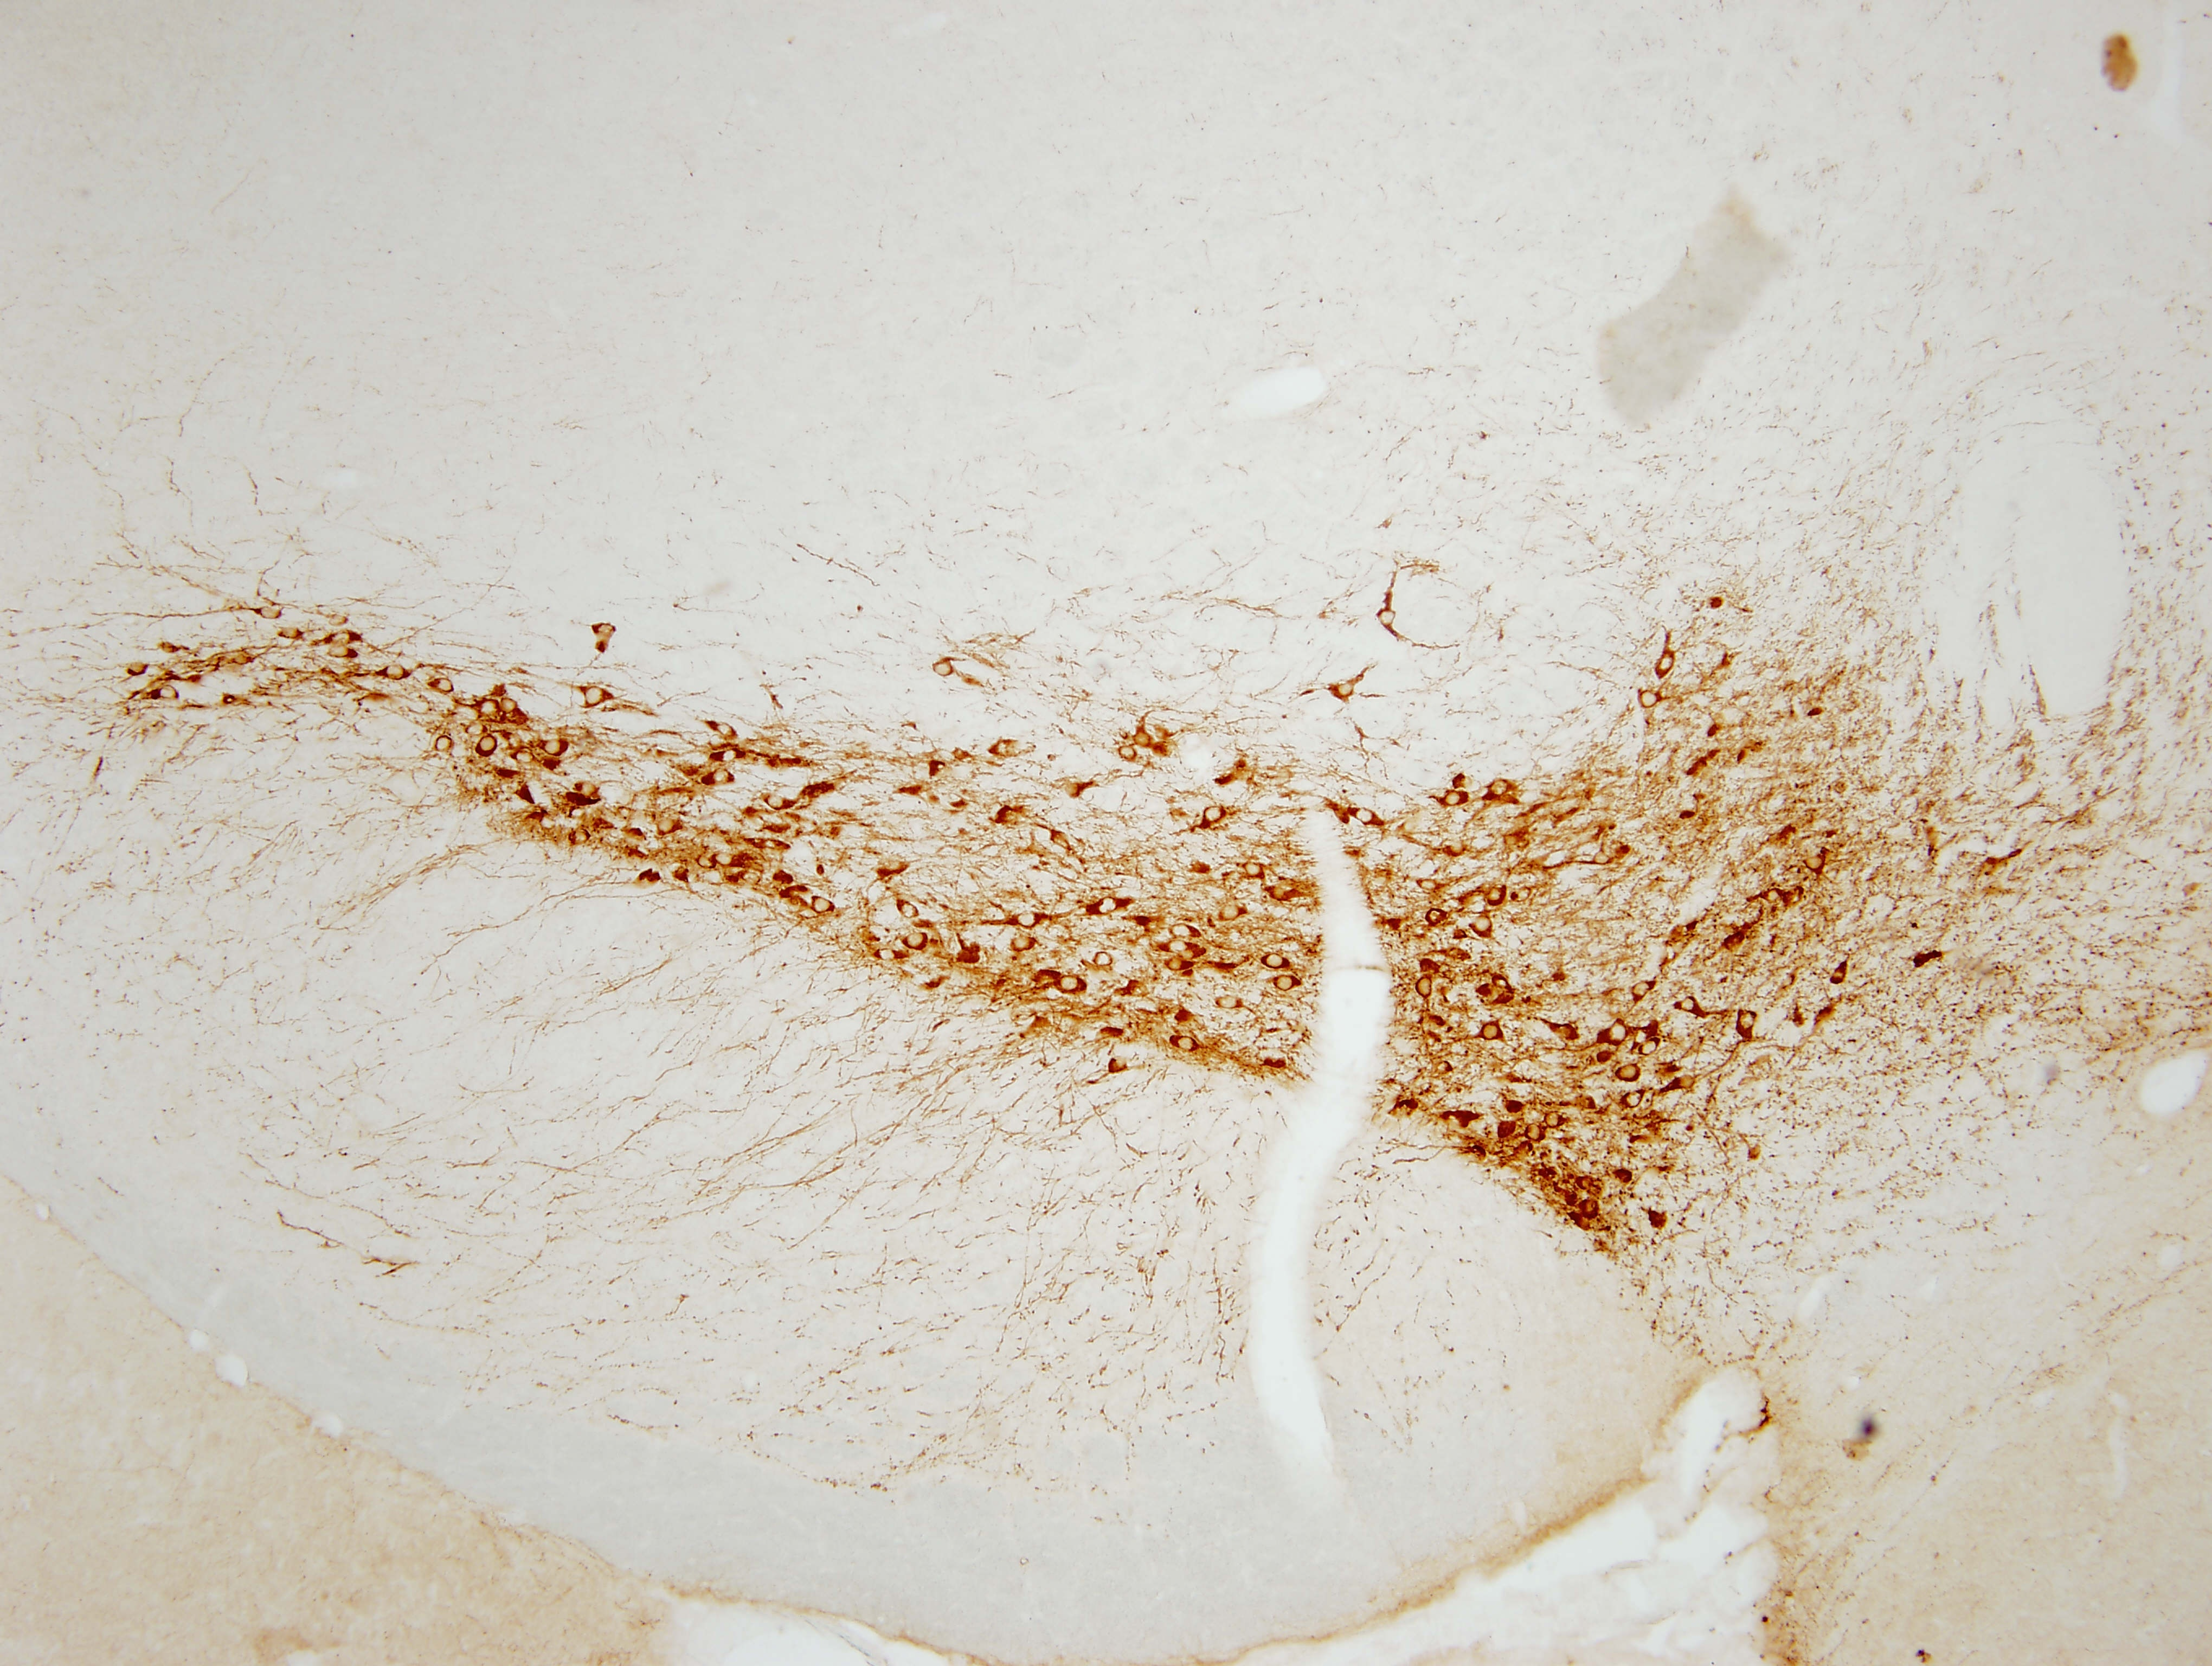neuron: (568, 824, 595, 851), (575, 777, 602, 803), (657, 814, 684, 840), (710, 765, 736, 791), (713, 847, 740, 873), (764, 789, 790, 816), (811, 894, 838, 921), (904, 929, 930, 956), (932, 658, 958, 684), (993, 738, 1019, 765), (1011, 929, 1037, 956), (1016, 908, 1042, 935), (1060, 970, 1086, 996), (1096, 893, 1123, 919), (1172, 919, 1198, 945), (1173, 1032, 1200, 1059), (1203, 803, 1229, 830), (1219, 992, 1245, 1019), (1219, 901, 1245, 928), (126, 656, 152, 683), (1263, 949, 1289, 975), (1273, 970, 1299, 996), (1425, 905, 1451, 931), (1441, 788, 1467, 814), (1469, 914, 1495, 940), (1481, 1020, 1507, 1046), (1488, 775, 1514, 801), (1521, 1122, 1548, 1148), (1541, 1108, 1567, 1134), (156, 681, 182, 707), (1591, 845, 1617, 871), (1609, 1020, 1635, 1046), (1616, 1061, 1642, 1087), (1623, 1087, 1649, 1113), (1630, 978, 1656, 1005), (1638, 1034, 1665, 1061), (1735, 1008, 1761, 1034), (1761, 886, 1787, 912), (1785, 886, 1812, 912), (280, 623, 306, 649), (330, 641, 357, 667), (332, 623, 358, 649), (385, 661, 411, 688), (476, 698, 502, 725), (498, 695, 525, 721), (544, 737, 570, 761), (584, 684, 609, 711), (719, 744, 743, 770), (876, 943, 902, 968), (1242, 859, 1268, 884), (1413, 975, 1439, 999), (1485, 884, 1509, 910), (1511, 882, 1537, 906), (1556, 1020, 1581, 1046), (1638, 690, 1665, 714), (1805, 851, 1831, 875), (259, 598, 283, 625), (477, 733, 502, 760), (1656, 651, 1680, 676), (696, 852, 717, 871), (717, 721, 736, 742), (1135, 730, 1154, 751), (1180, 945, 1200, 966), (1420, 875, 1439, 896), (437, 677, 456, 698), (516, 747, 537, 766), (901, 903, 920, 922), (1095, 952, 1114, 971), (1119, 744, 1138, 763), (1166, 956, 1186, 975), (1170, 940, 1189, 959), (1269, 886, 1289, 905), (1336, 679, 1355, 698), (1355, 808, 1374, 828), (1380, 609, 1399, 628), (1436, 1061, 1455, 1080), (1631, 1027, 1651, 1046), (1677, 1073, 1696, 1092), (1680, 996, 1700, 1015), (435, 735, 455, 754)
